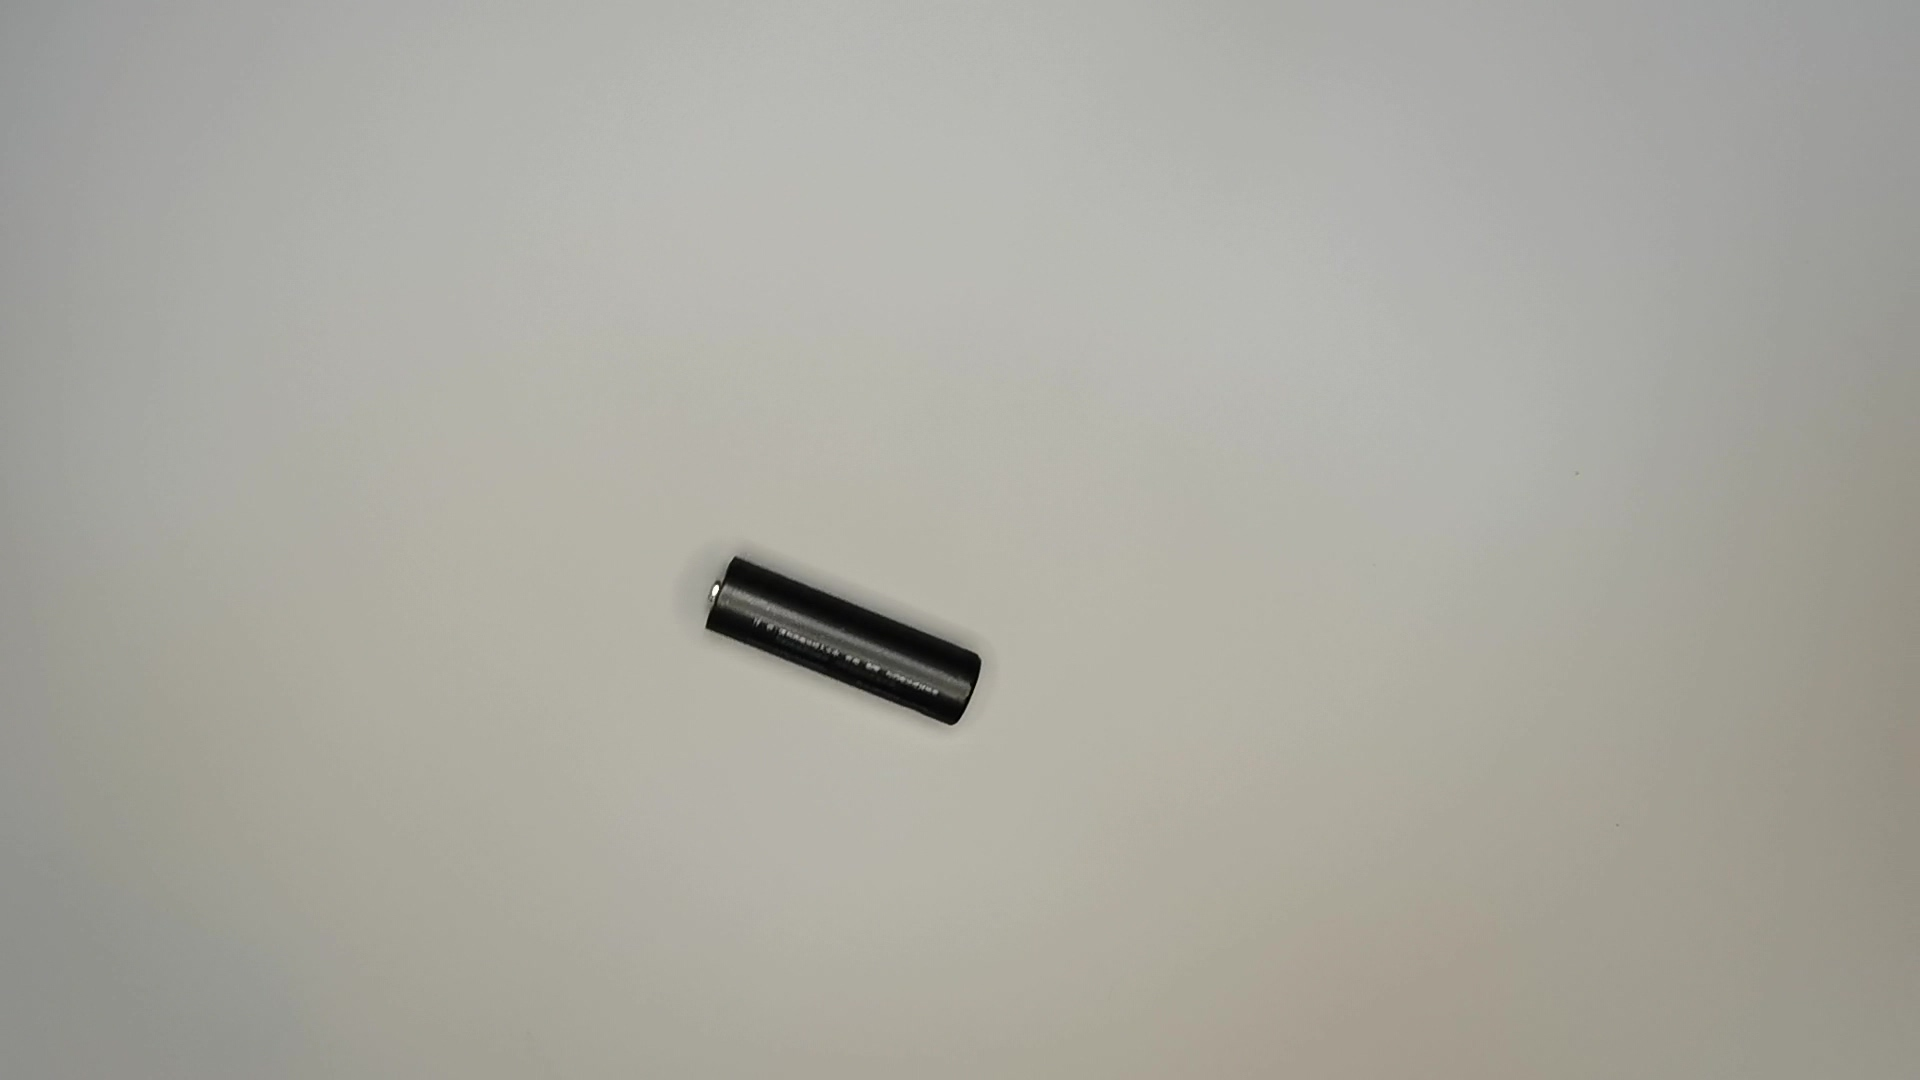battery: (691, 549, 992, 738)
